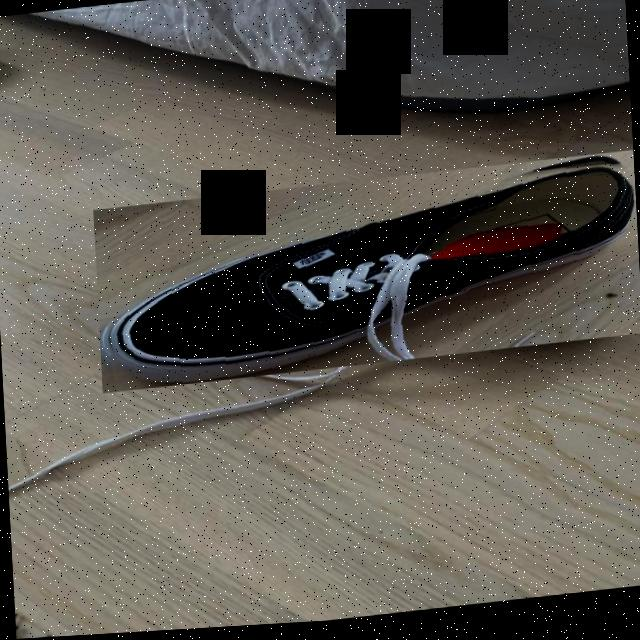shoe: (93, 157, 640, 395)
